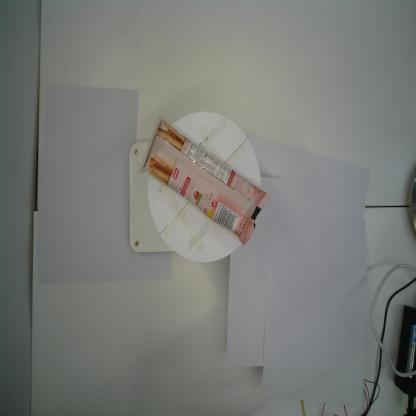Dessert: (138, 113, 271, 248)
